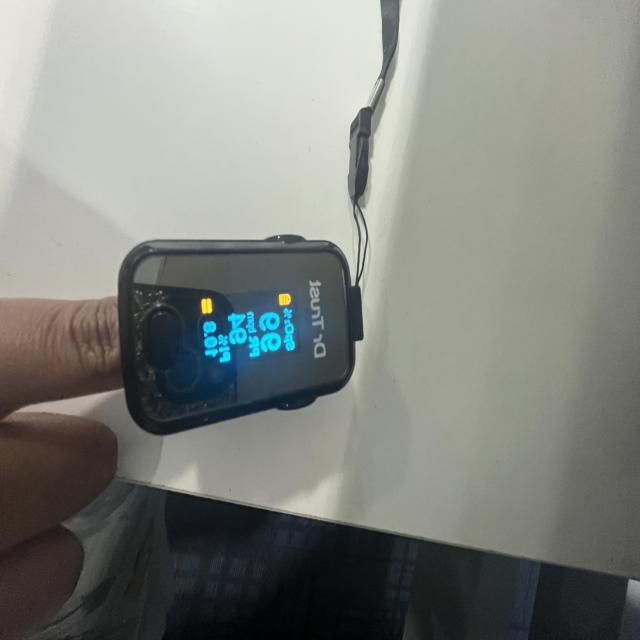spo2: (117, 237, 361, 439)
